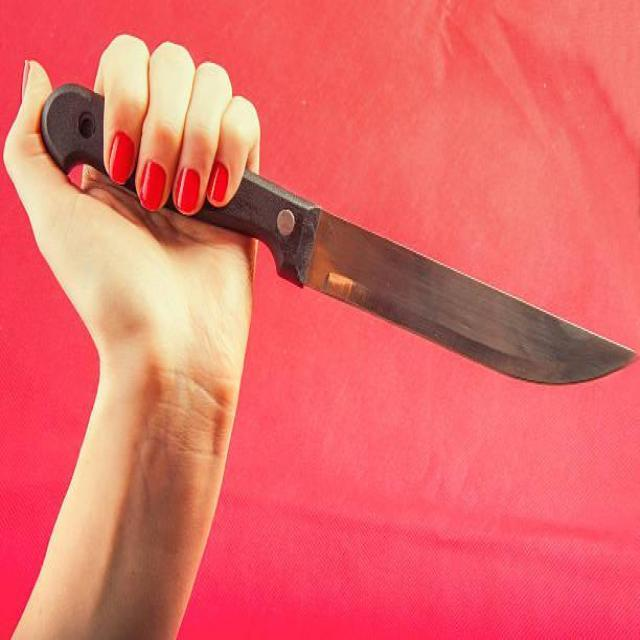faca: (4, 30, 638, 435)
